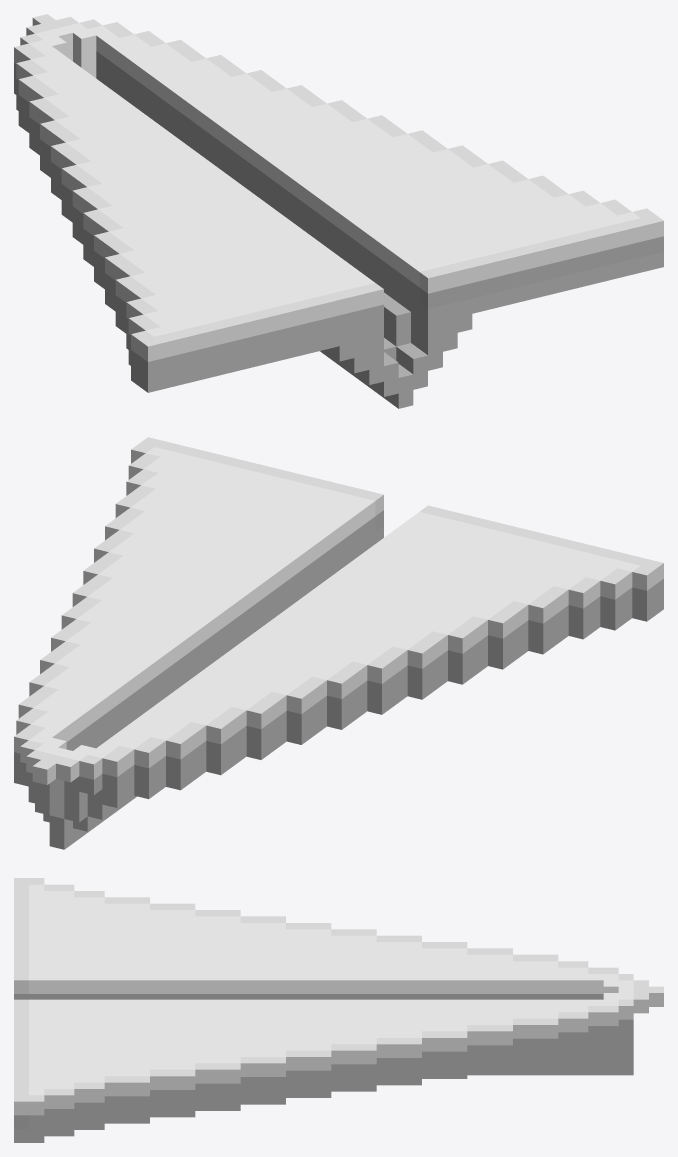
The model's file is Plane_Paper.obj.
The picture shows the model from 3 angles, top to bottom: view 1: azimuth 30°, elevation 25°; view 2: azimuth 150°, elevation 25°; view 3: azimuth 270°, elevation 25°; orthographic projection. The views are drawn at different scales.
Bounding box in the file's own units: 35 × 8 × 43.
1 material, 1 textured.
